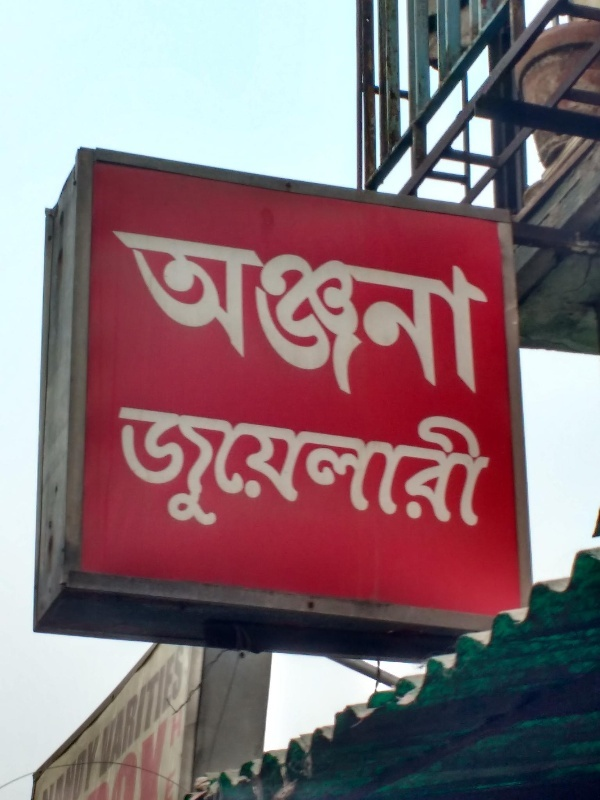text: (113, 214, 128, 415), (129, 214, 144, 415), (145, 214, 160, 415), (161, 214, 176, 415), (177, 214, 192, 415), (193, 214, 208, 415), (209, 214, 224, 415), (225, 214, 240, 415), (241, 214, 256, 415), (257, 214, 272, 415), (273, 214, 288, 415), (289, 214, 304, 415), (305, 214, 320, 415), (321, 214, 336, 415), (337, 214, 352, 415), (353, 214, 368, 415), (369, 214, 384, 415), (385, 214, 400, 415), (401, 214, 416, 415), (417, 214, 432, 415), (433, 214, 448, 415), (449, 214, 464, 415), (465, 214, 480, 415), (481, 214, 496, 415), (481, 344, 497, 530), (129, 344, 144, 530), (145, 344, 160, 530), (161, 344, 176, 530), (177, 344, 192, 530), (193, 344, 208, 530), (209, 344, 224, 530), (225, 344, 240, 530), (241, 344, 256, 530), (257, 344, 272, 530), (273, 344, 288, 530), (289, 344, 304, 530), (305, 344, 320, 530), (321, 344, 336, 530), (337, 344, 352, 530), (353, 344, 368, 530), (369, 344, 384, 530), (385, 344, 400, 530), (401, 344, 416, 530), (417, 344, 432, 530), (433, 344, 448, 530), (449, 344, 464, 530), (465, 344, 480, 530), (115, 344, 128, 530), (177, 631, 193, 776), (113, 631, 128, 776), (129, 631, 144, 776), (145, 631, 160, 776), (161, 631, 176, 776), (113, 709, 128, 799), (129, 709, 144, 799), (145, 709, 160, 799), (161, 709, 176, 799), (106, 214, 112, 415), (497, 214, 502, 415), (177, 709, 186, 799), (49, 748, 64, 800), (65, 748, 80, 800), (105, 709, 112, 799), (108, 631, 112, 776), (37, 748, 48, 800), (90, 732, 96, 795), (97, 732, 102, 795), (81, 748, 86, 800)
